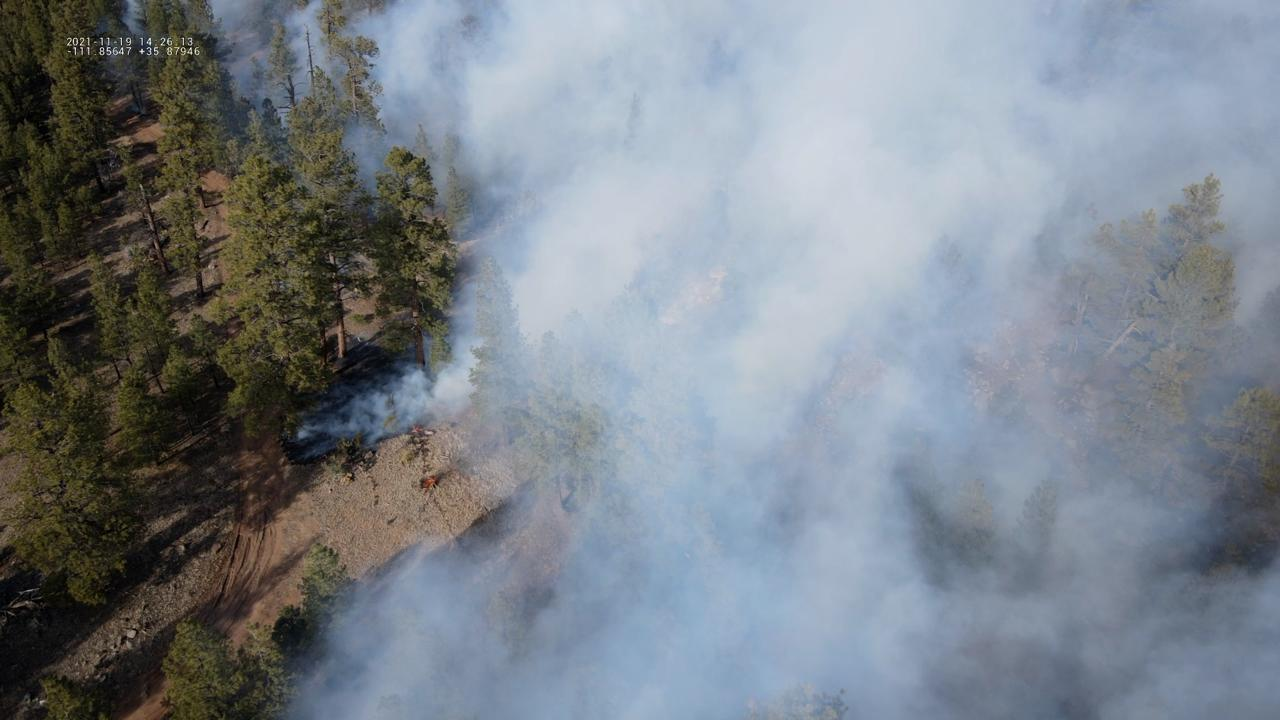fire: (422, 477, 437, 489), (412, 425, 423, 433)
smoke: (85, 0, 1280, 720)
